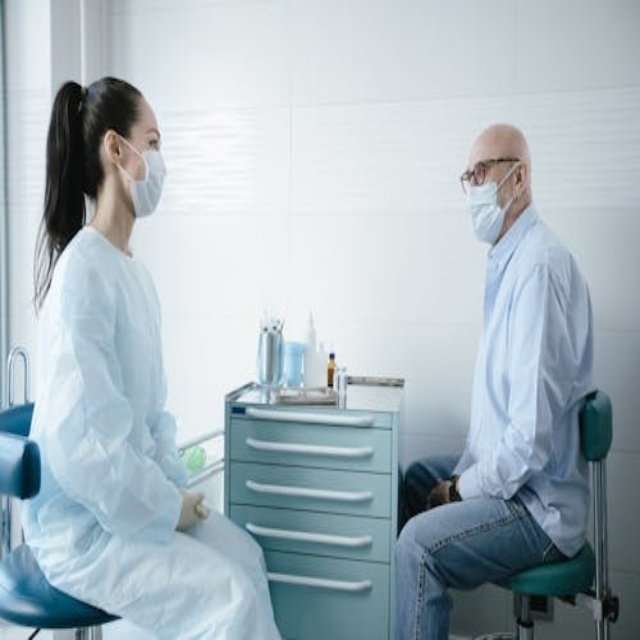Gafas: (460, 158, 522, 189)
Guantes: (176, 488, 210, 532)
Mascara: (464, 165, 520, 245), (115, 133, 166, 218)
Sin_gafas: (137, 117, 168, 156)
Sin_guantes: (426, 476, 459, 510)
